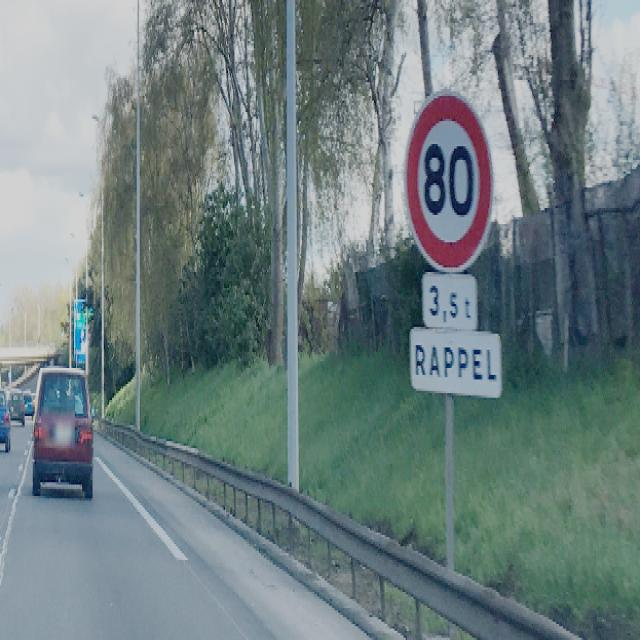speed_80: (402, 85, 494, 275)
